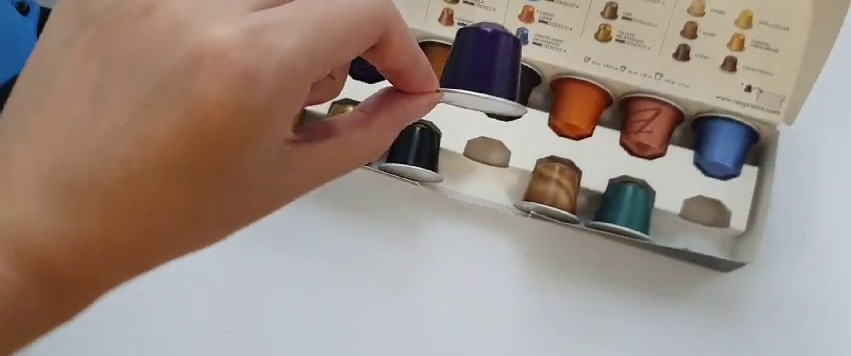capsule_11: (431, 21, 530, 123)
